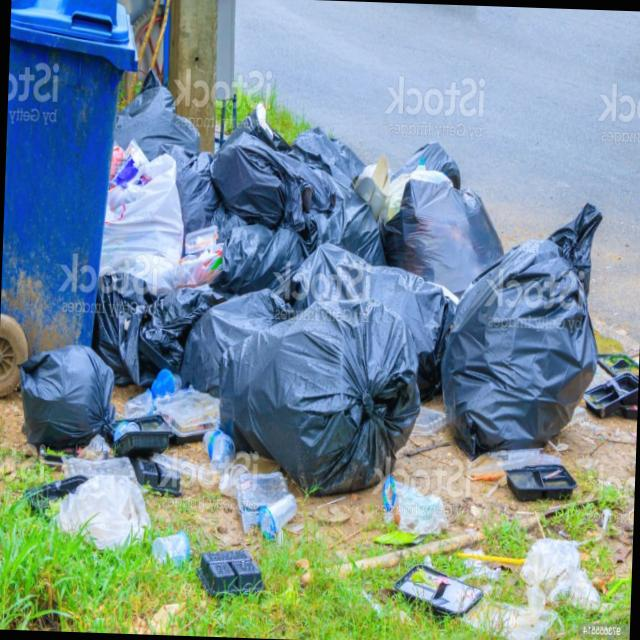garbage: (7, 35, 621, 640)
